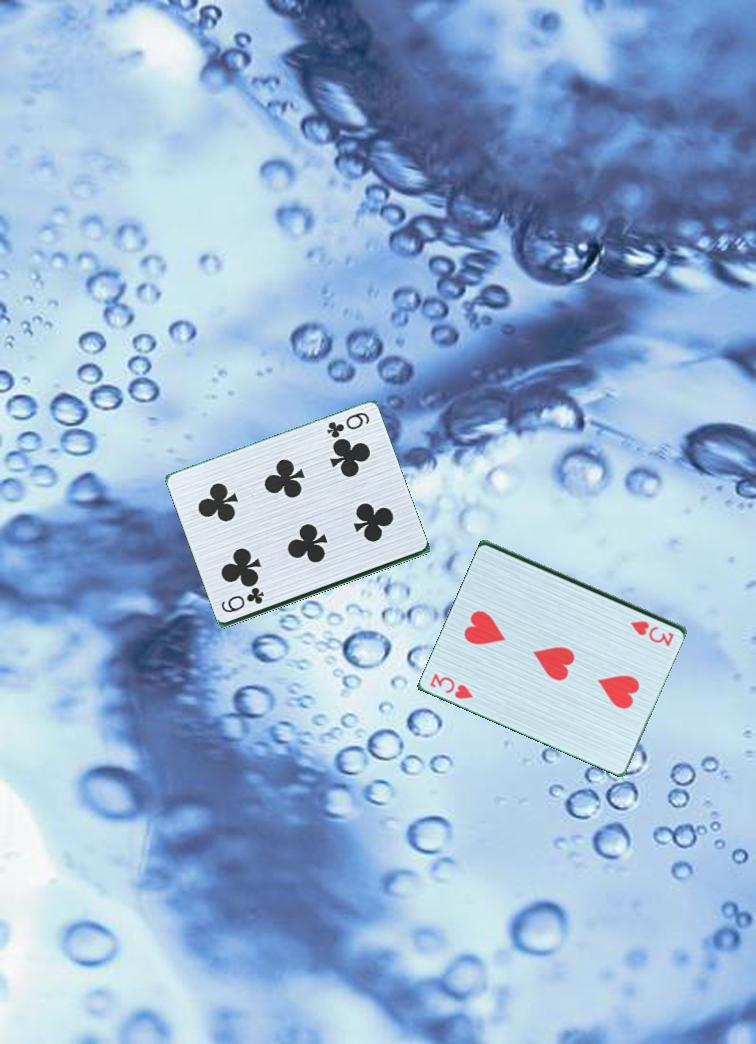3h: (425, 668, 483, 702), (627, 617, 678, 648)
6c: (323, 409, 380, 443), (217, 587, 267, 616)
